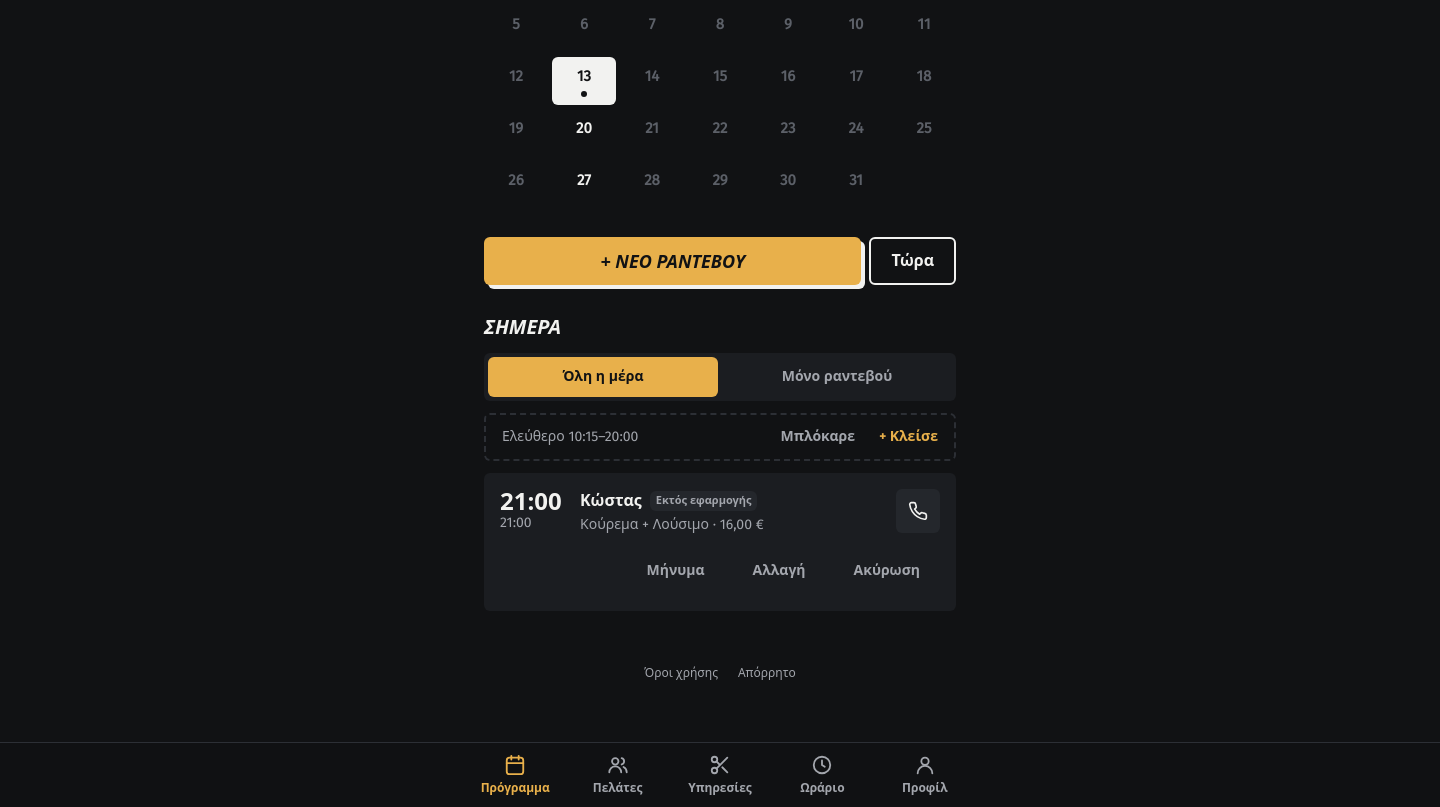
Test: keeps an appointment outside working hours at its own time when changing it
(page scrolled)
Click the button "Αλλαγή". click: x=779, y=571
box: 733,547 -> 826,595
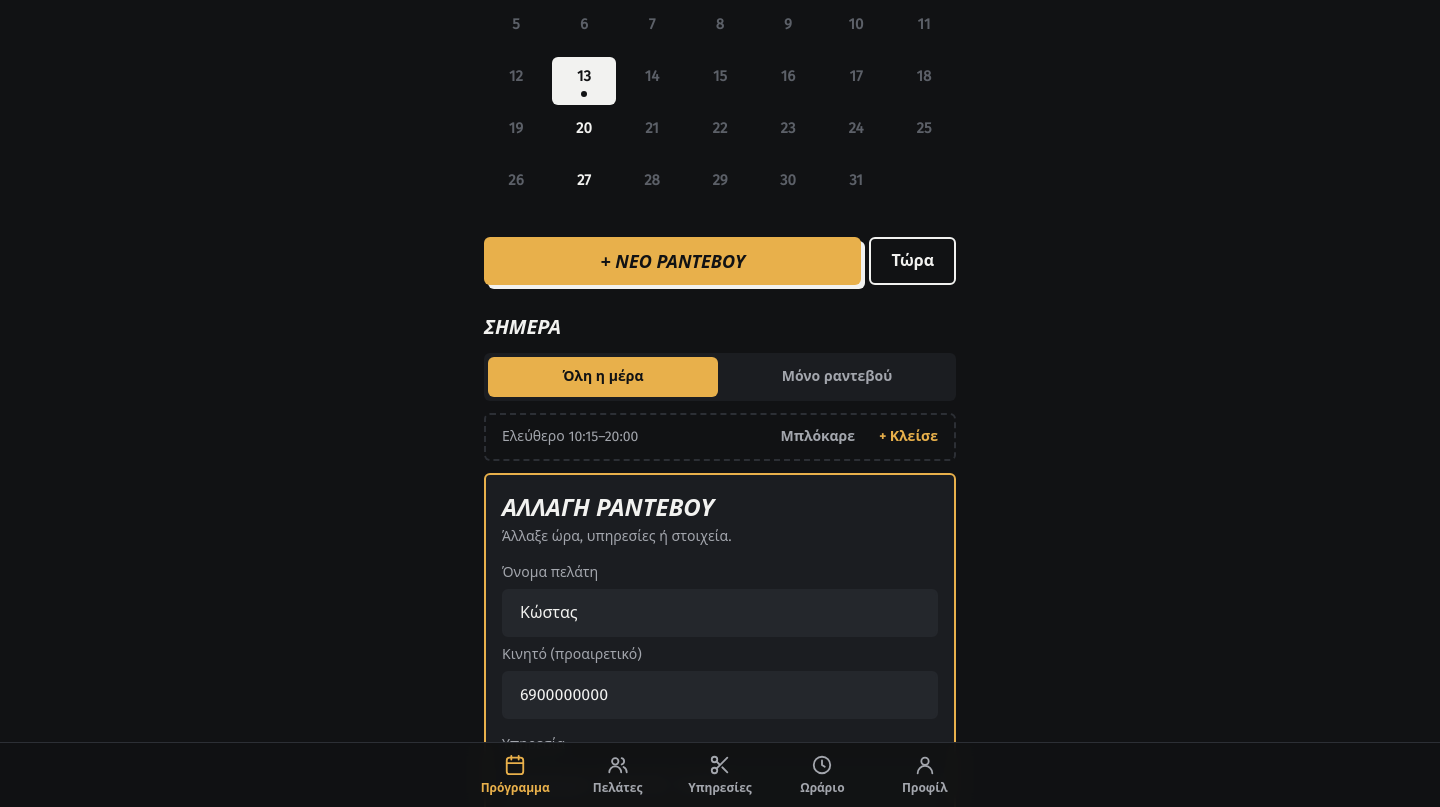
Expected: the field labelled "Όνομα πελάτη" holds "Κώστας", 502,589 -> 938,637
